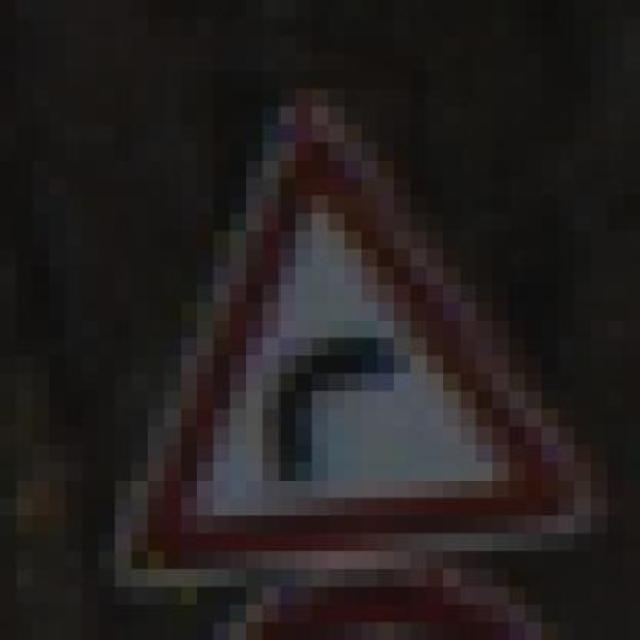Dangerous Rright Curve Ahead: (66, 89, 592, 569)
